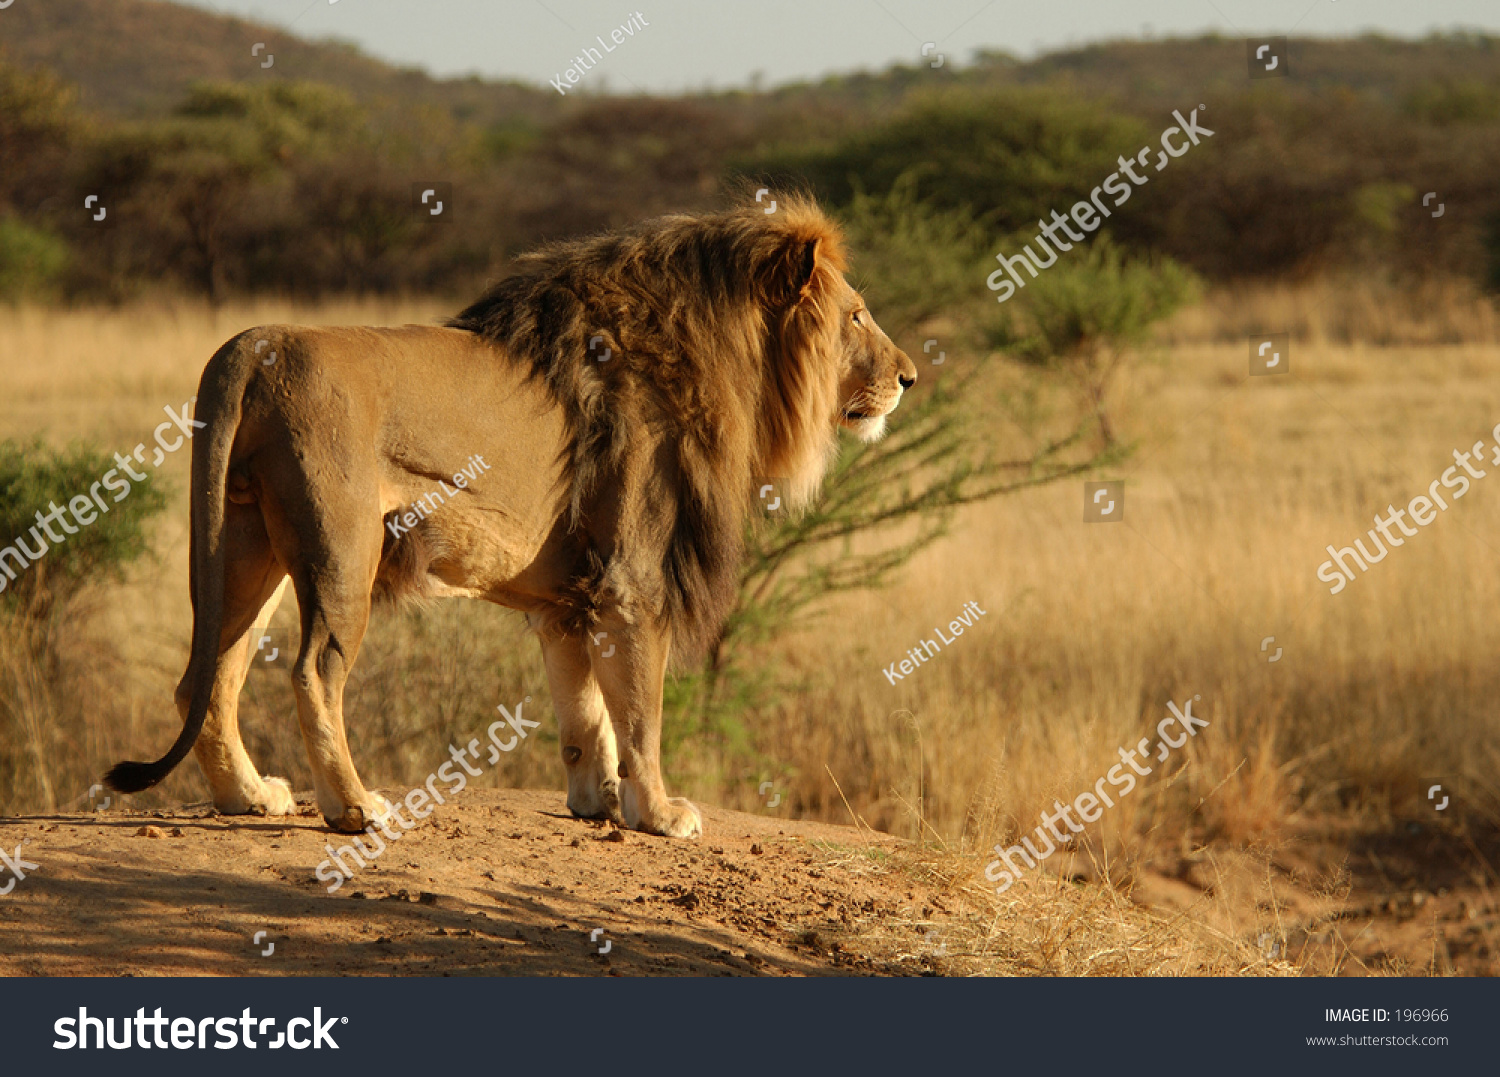lion: (102, 203, 919, 831)
